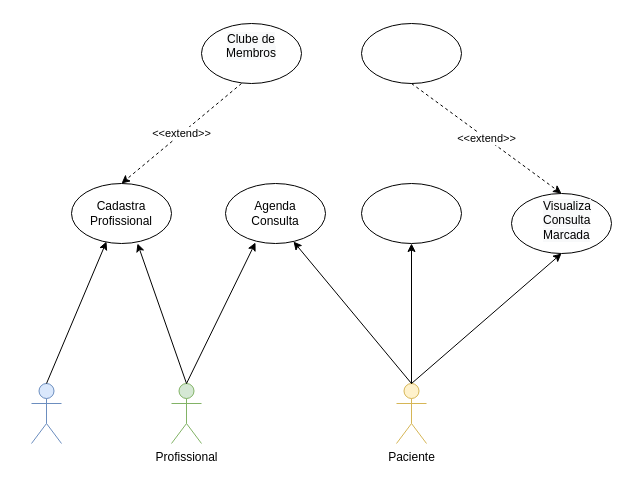
Image size: 639x481. Some labels were removed from this diagram. The shapes that lost their labels are listed below. From the top down, each one's centre as x and y in pixels, then its label:
(411,53): Cancela Consulta
(411,213): Paga Pedido
(46,413): Moderador
